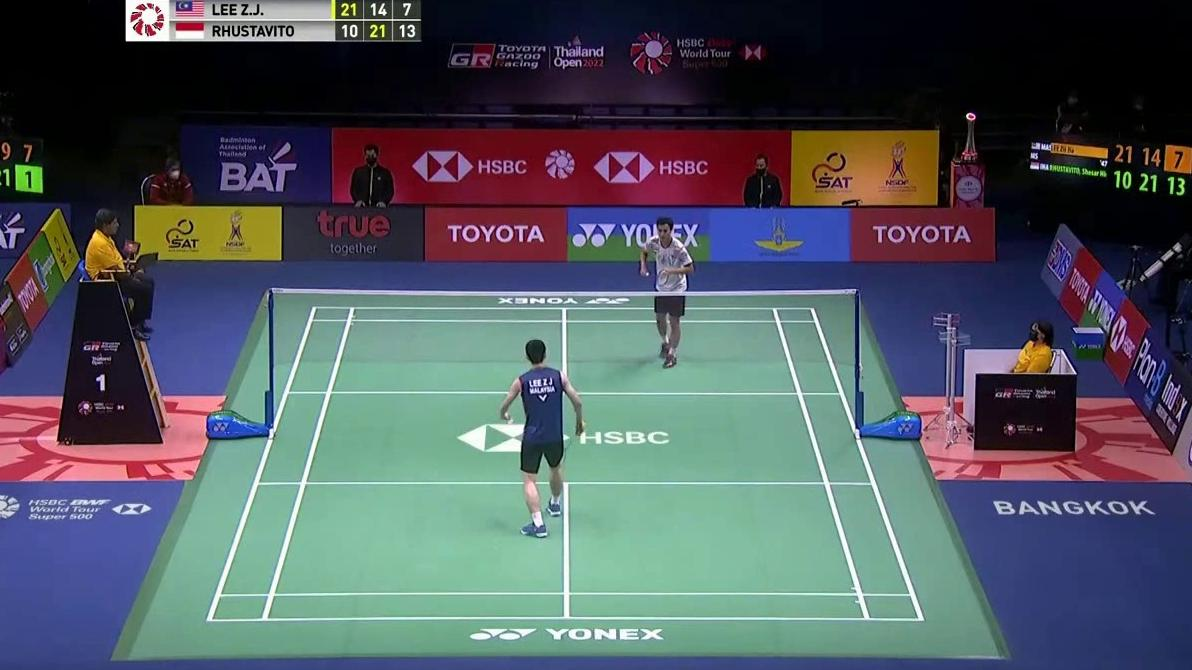racket: (560, 427, 584, 464), (644, 269, 669, 287)
shuttle: (504, 413, 515, 426)
